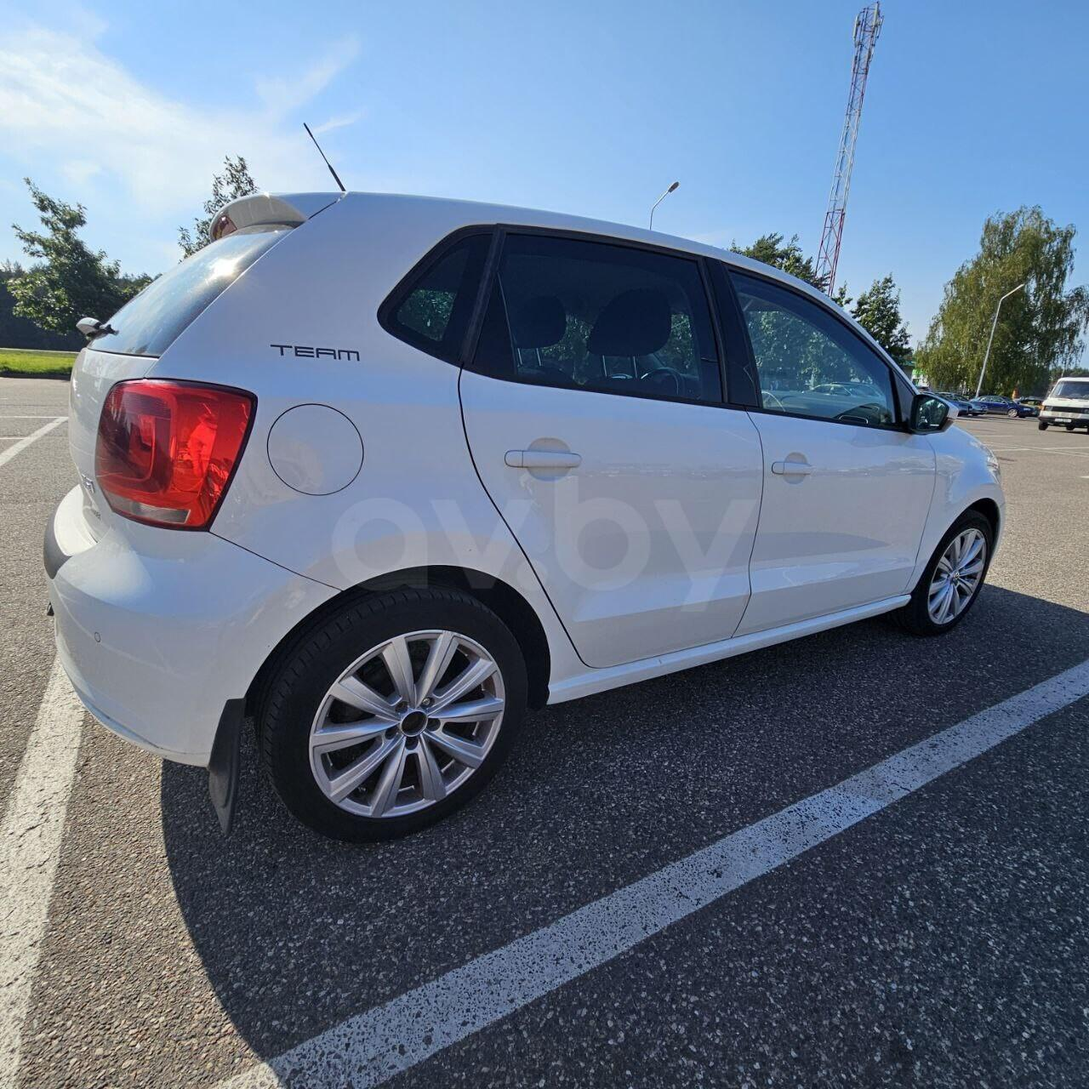Polo_2009-2015: (49, 165, 1001, 831)
